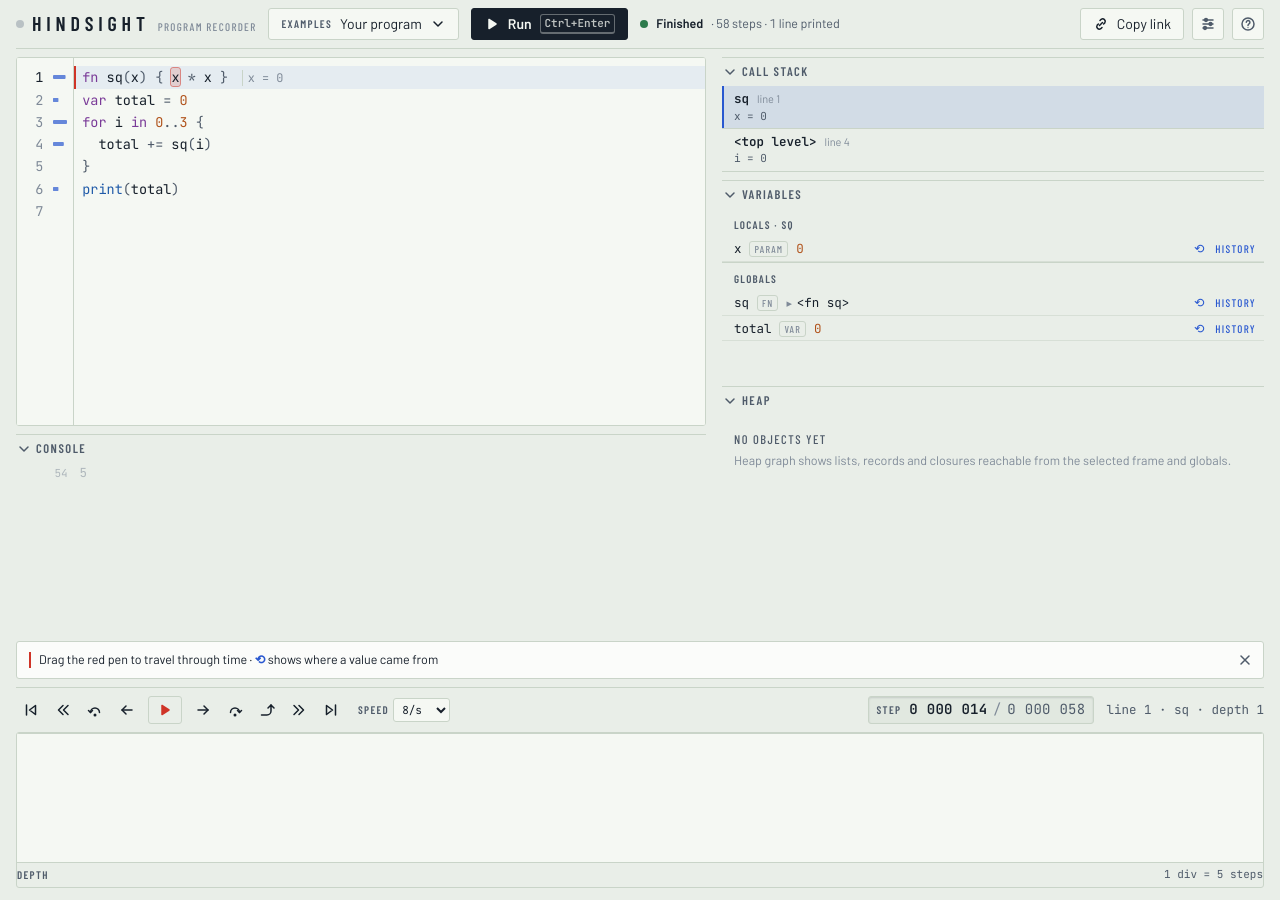
Test: App › desktop: header, editor, stacked collapsible panels, transport and chart
The image size is (1280, 900).
Check: the text "Hindsight" is shown, box [32, 13, 150, 33]
Check: the element named "Program editor" is shown, box [16, 57, 706, 426]
Click the button "Heap".
click(748, 401)  # box [722, 388, 775, 414]
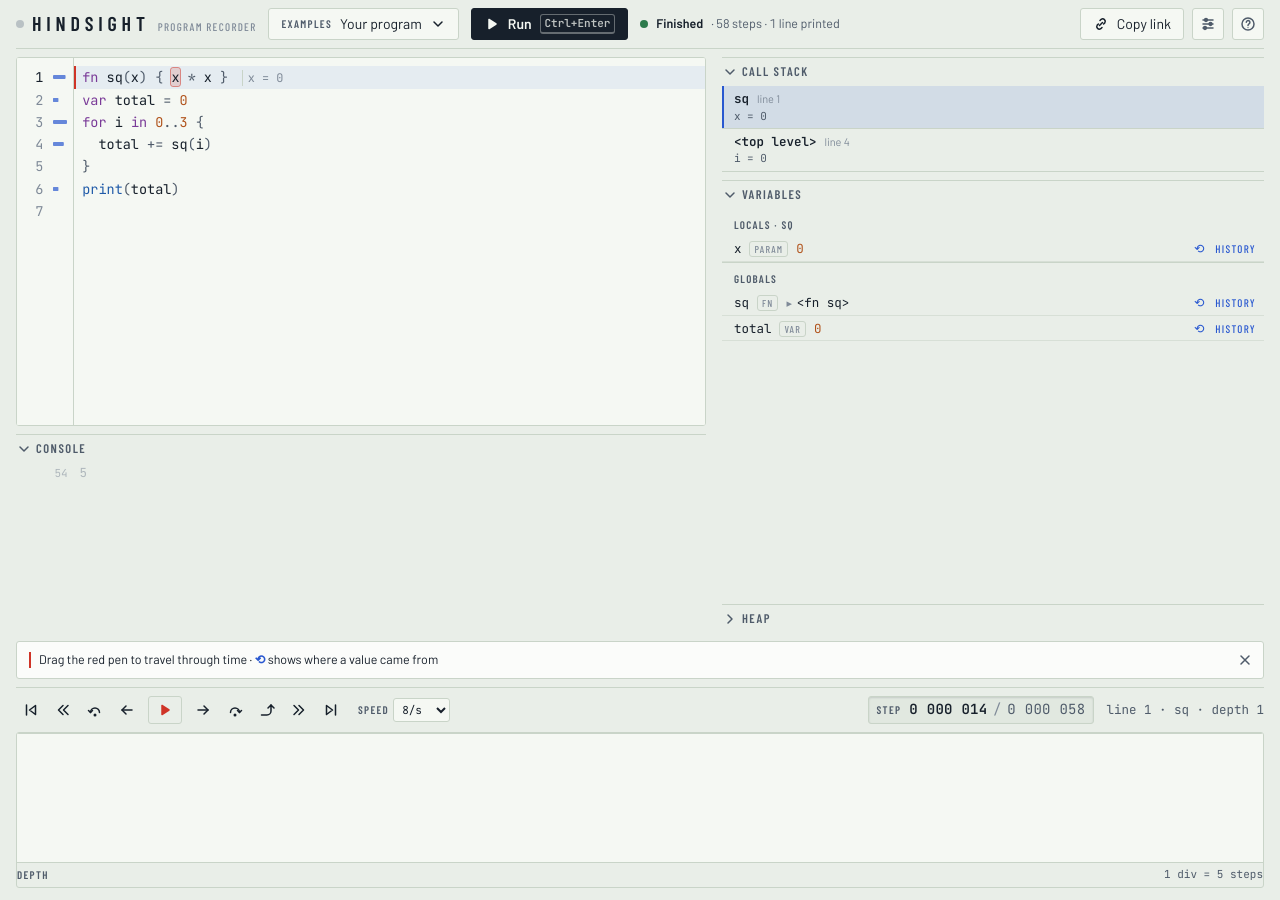
Check: the text "Finished" is shown, box [656, 15, 703, 33]
Check: the button "Heap" is collapsed, box [722, 606, 775, 632]
